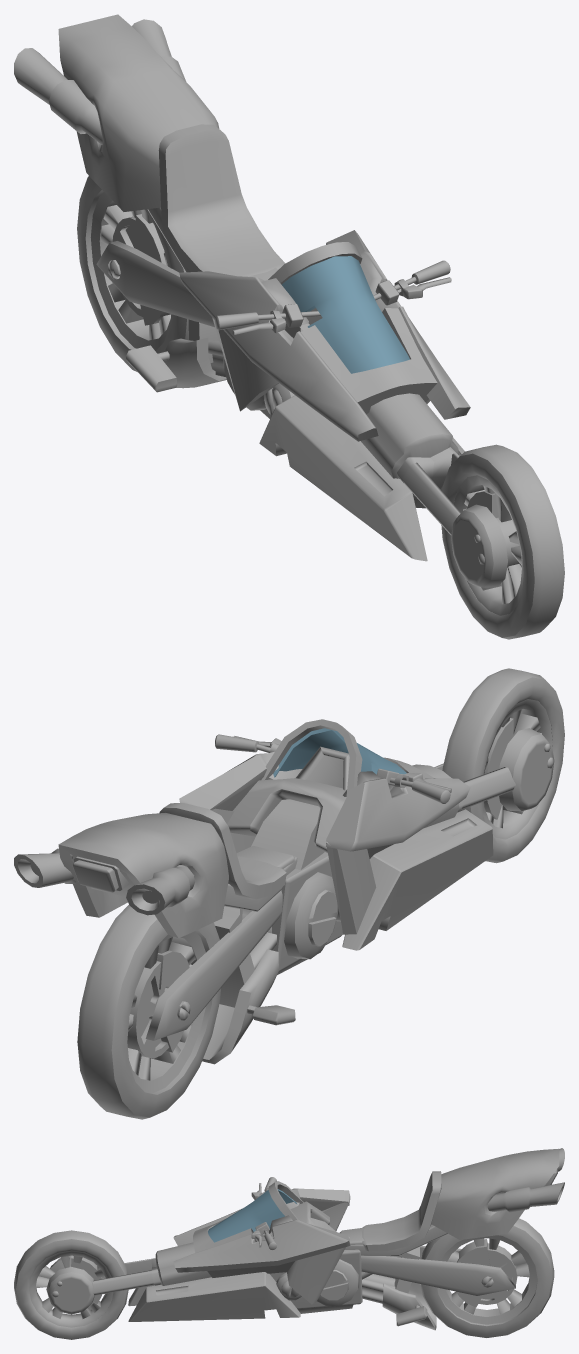
The model's file is SM_Neon_Chopper.fbx.
3 renders of one model, top to bottom at view 1: azimuth 30°, elevation 25°; view 2: azimuth 150°, elevation 25°; view 3: azimuth 270°, elevation 25°, orthographic. The views are drawn at different scales.
Parts seen in each view (by area): view 1: Neon_Chopper_Body, Neon_Chopper_Wheel_Front, Neon_Chopper_Wheel_Back; view 2: Neon_Chopper_Body, Neon_Chopper_Wheel_Back, Neon_Chopper_Wheel_Front; view 3: Neon_Chopper_Body, Neon_Chopper_Wheel_Back, Neon_Chopper_Wheel_Front.
Boxes of the visible parts, bbox=[...] form: Neon_Chopper_Body: bbox=[14, 14, 521, 587]; Neon_Chopper_Wheel_Front: bbox=[441, 444, 564, 639]; Neon_Chopper_Wheel_Back: bbox=[77, 176, 188, 371]; Neon_Chopper_Body: bbox=[14, 719, 554, 1064]; Neon_Chopper_Wheel_Back: bbox=[77, 905, 220, 1119]; Neon_Chopper_Wheel_Front: bbox=[442, 668, 564, 863]; Neon_Chopper_Body: bbox=[46, 1148, 564, 1330]; Neon_Chopper_Wheel_Back: bbox=[420, 1218, 554, 1337]; Neon_Chopper_Wheel_Front: bbox=[14, 1230, 128, 1339].
Bounding box in the file's own units: 114 × 144 × 399.
